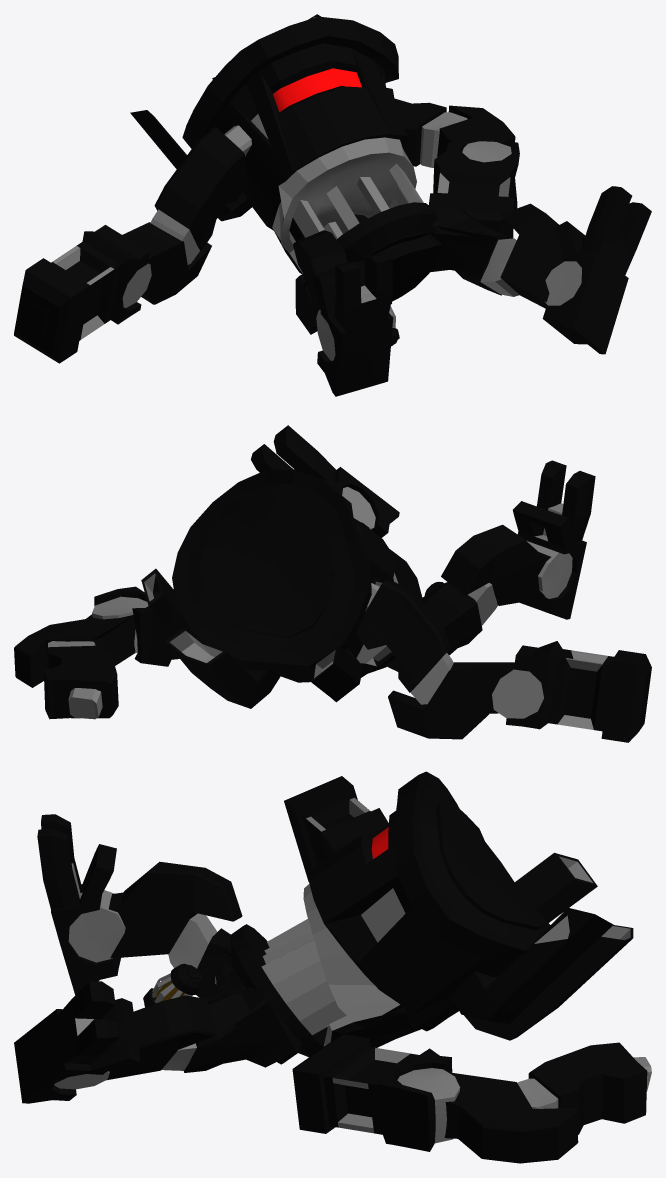
File: Destroyed Robot.fbx
The picture shows the model from 3 angles, top to bottom: view 1: azimuth 30°, elevation 25°; view 2: azimuth 150°, elevation 25°; view 3: azimuth 270°, elevation 25°; orthographic projection. The views are drawn at different scales.
Parts seen in each view (by area): view 1: polySurface11; view 2: polySurface11; view 3: polySurface11.
Boxes of the visible parts, left/top/right/bottom form: polySurface11: left=14, top=14, right=651, bottom=396; polySurface11: left=14, top=425, right=651, bottom=742; polySurface11: left=14, top=771, right=651, bottom=1163.
Size of the model in its own units: 24.03 by 10.16 by 21.28.
